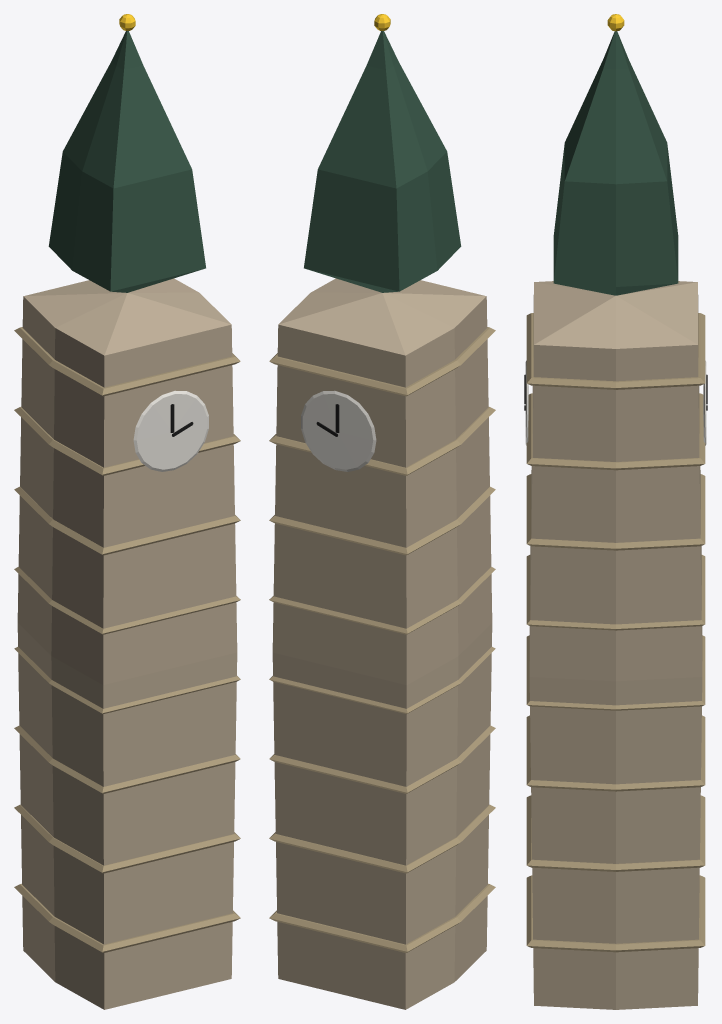
File: s-spire.glb
3 renders of one model, left to right at view 1: azimuth 30°, elevation 25°; view 2: azimuth 150°, elevation 25°; view 3: azimuth 270°, elevation 25°, orthographic.
Visible parts, largest first — view 1: p; view 2: p; view 3: p.
Part boxes in pixels (x1=…): p: x1=14, y1=14, x2=240, y2=1009; p: x1=269, y1=14, x2=495, y2=1009; p: x1=524, y1=14, x2=707, y2=1009.
Size of the model in its own units: 6.2 by 36.5 by 6.2.
